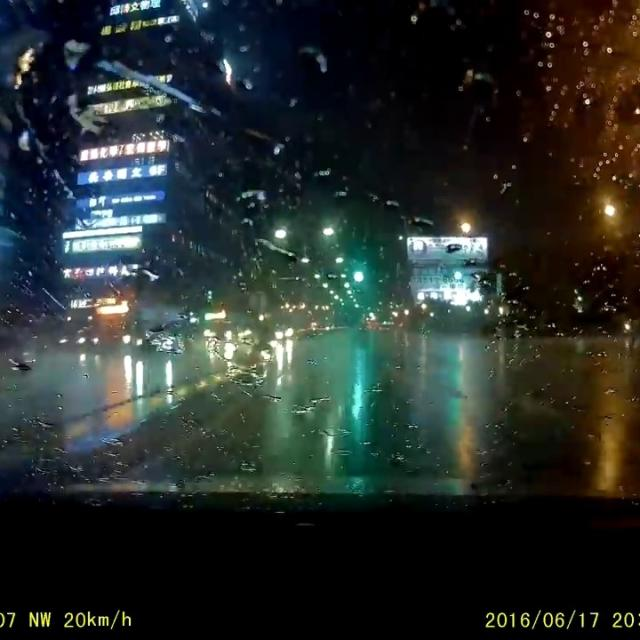Car: (71, 326, 100, 348)
